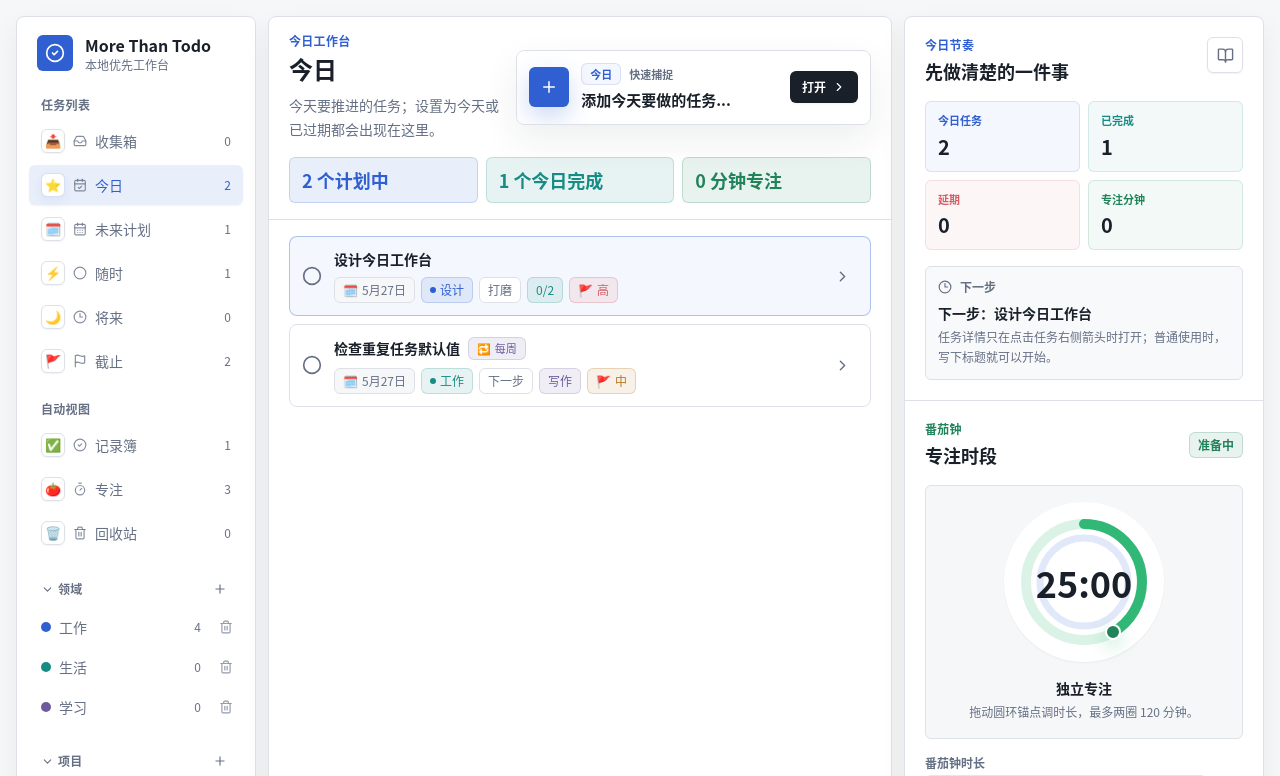
More Than Todo app › adds a task from quick add and shows it in Today
Click the button with aria-label "打开快速添加". click: (694, 87)
box: [516,50,871,124]
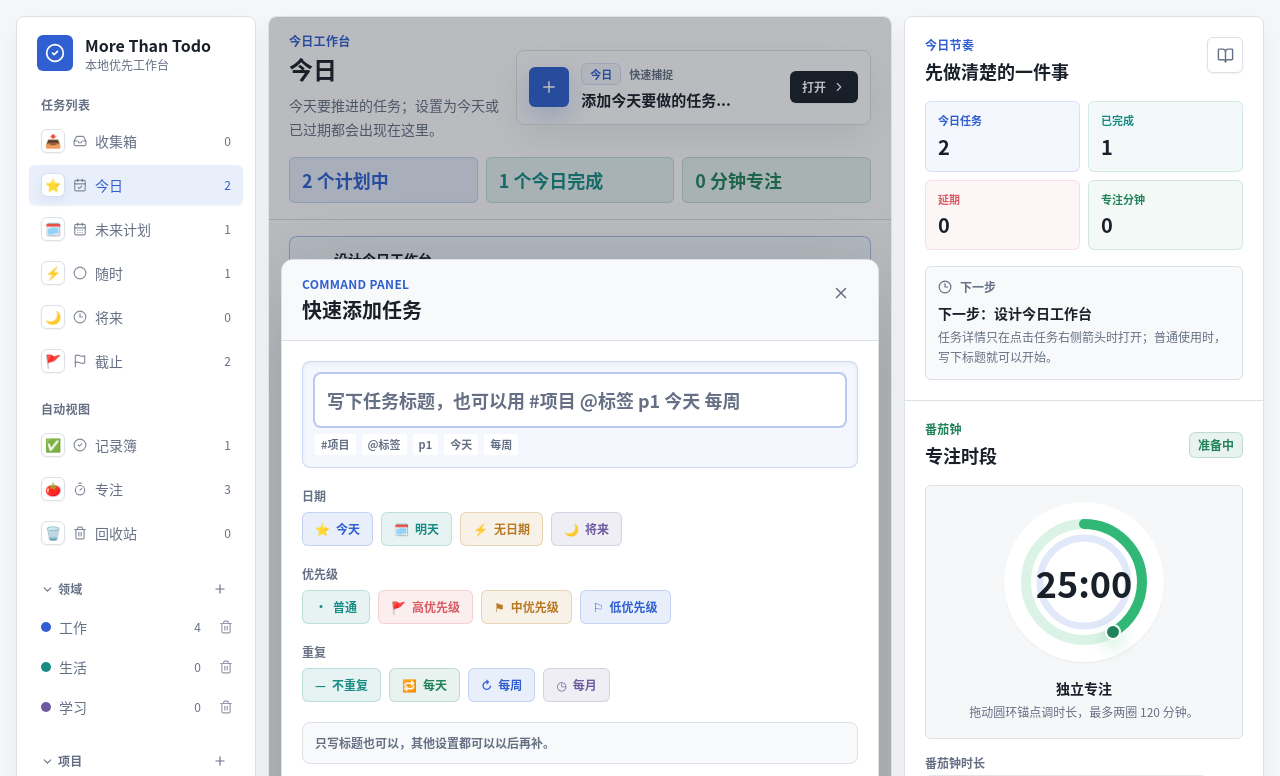
Type "Review product plan" into the field with placeholder "写下任务标题，也可以用 #项目 @标签 p1 今天 每周". click: (580, 400)
box: [315,374,845,426]
Then press Enter
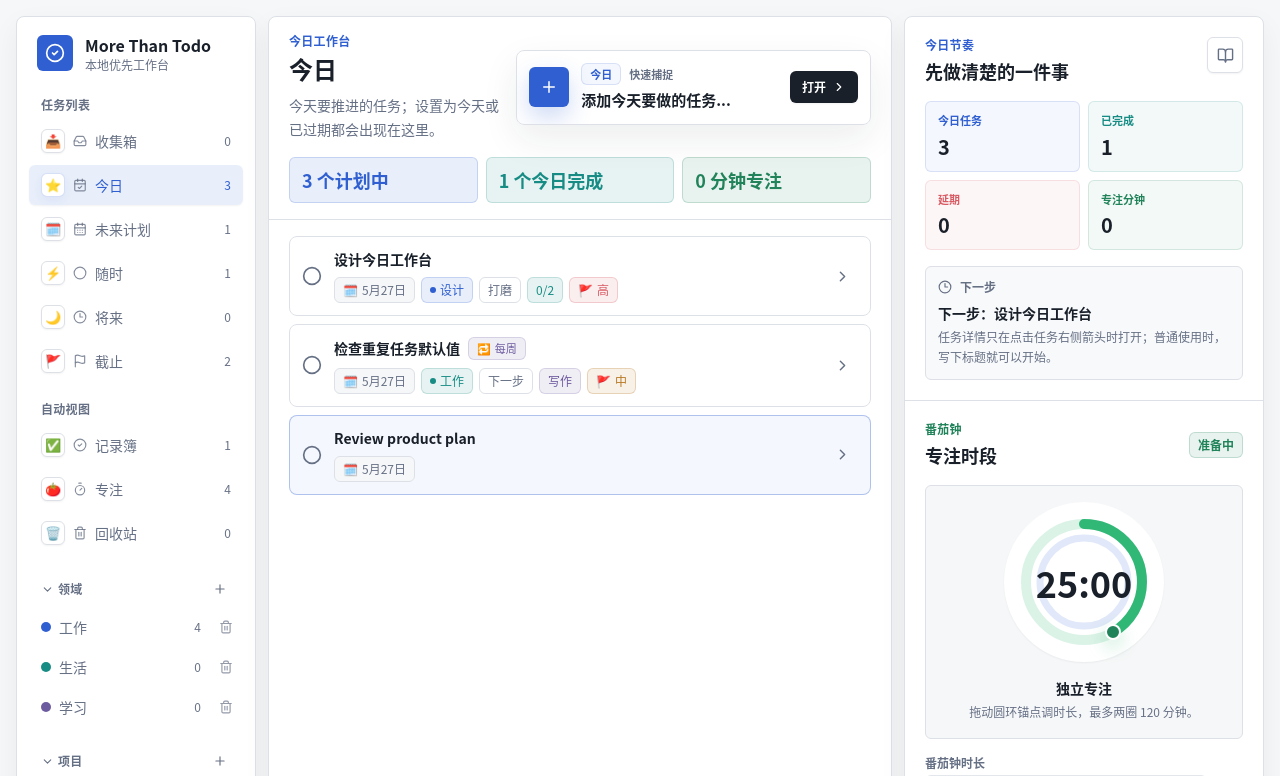
expect the heading "Review product plan" is shown: met, box [334,428,476,448]
expect the text "3 个计划中" is shown: met, box [302,167,389,193]
